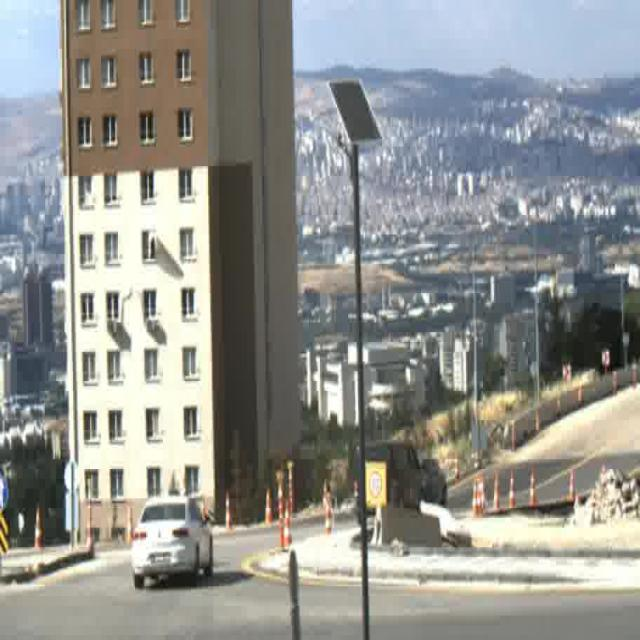Car: (129, 499, 216, 588), (351, 445, 422, 514), (409, 461, 447, 508)
